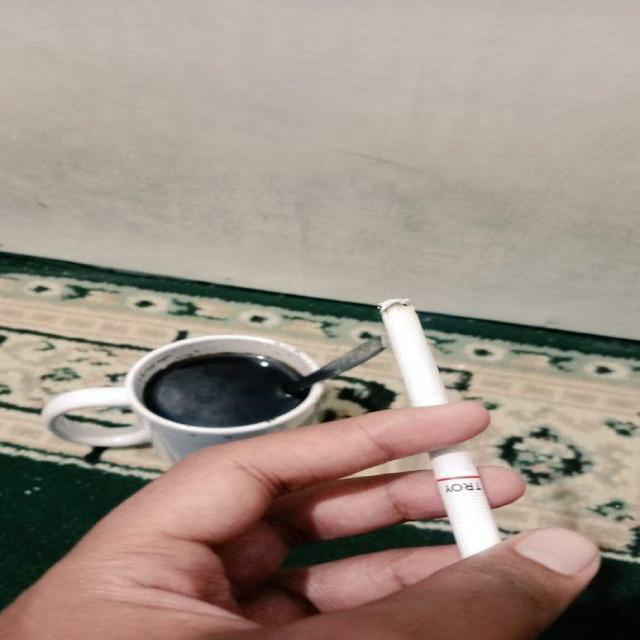rokok: (378, 296, 502, 546)
